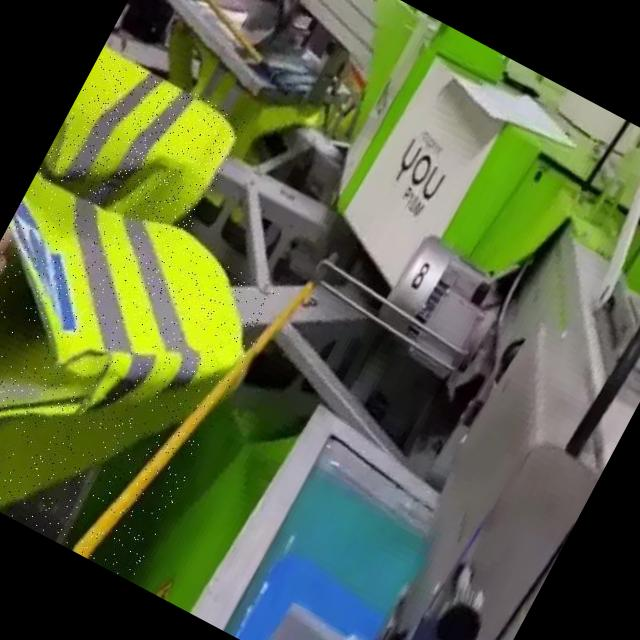safety_vest: (0, 164, 283, 581), (38, 46, 248, 247)
